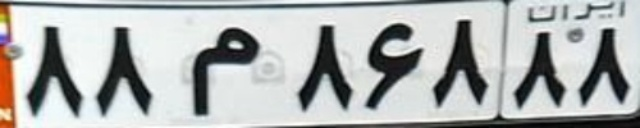6: (362, 22, 422, 109)
8: (26, 23, 84, 117), (98, 23, 154, 116), (296, 23, 352, 111), (433, 18, 487, 108), (512, 30, 567, 109), (578, 26, 629, 106)
mim: (190, 26, 261, 116)
